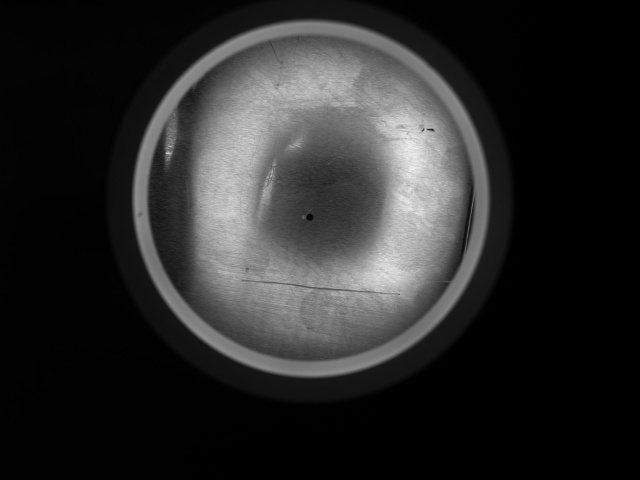ca_shang: (229, 272, 403, 298)
zhen_kong: (301, 209, 315, 224)
